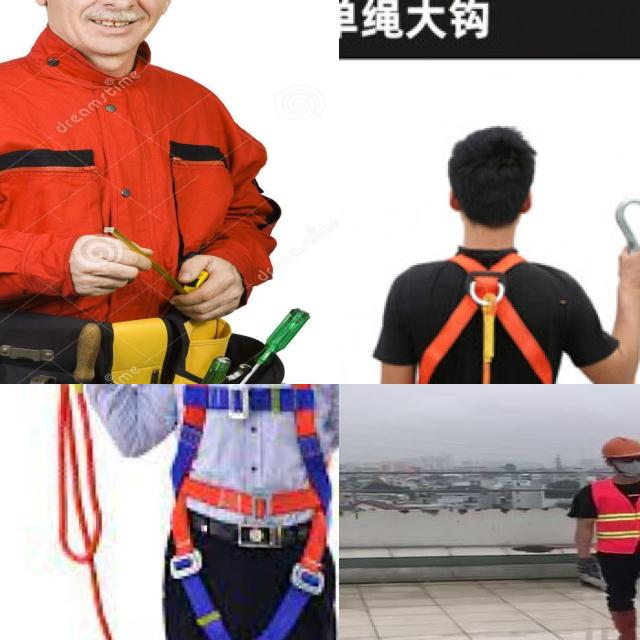Harness: (172, 384, 334, 640), (404, 246, 570, 384)
No_Ear-Protection: (23, 0, 190, 53)
boots: (610, 610, 637, 640)
head_helmet: (598, 434, 640, 458)
person: (566, 433, 640, 640)
vest: (590, 477, 640, 553)
